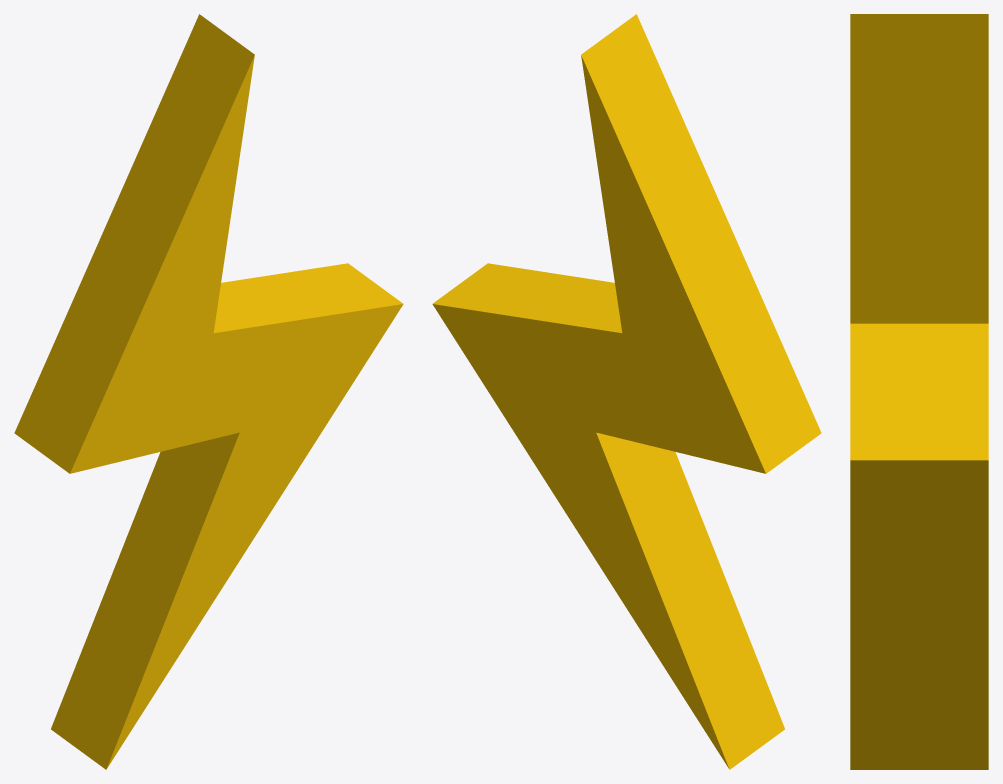
File: speed.glb
3 views of the same model, side by side, from view 1: azimuth 30°, elevation 25°; view 2: azimuth 150°, elevation 25°; view 3: azimuth 270°, elevation 25° (orthographic). The views are drawn at different scales.
Parts seen in each view (by area): view 1: light; view 2: light; view 3: light.
Part boxes in pixels (left/top/right/bottom): light: left=14, top=14, right=403, bottom=769; light: left=432, top=14, right=821, bottom=769; light: left=850, top=14, right=988, bottom=769.
Size of the model in its own units: 6.93 by 13.48 by 2.
